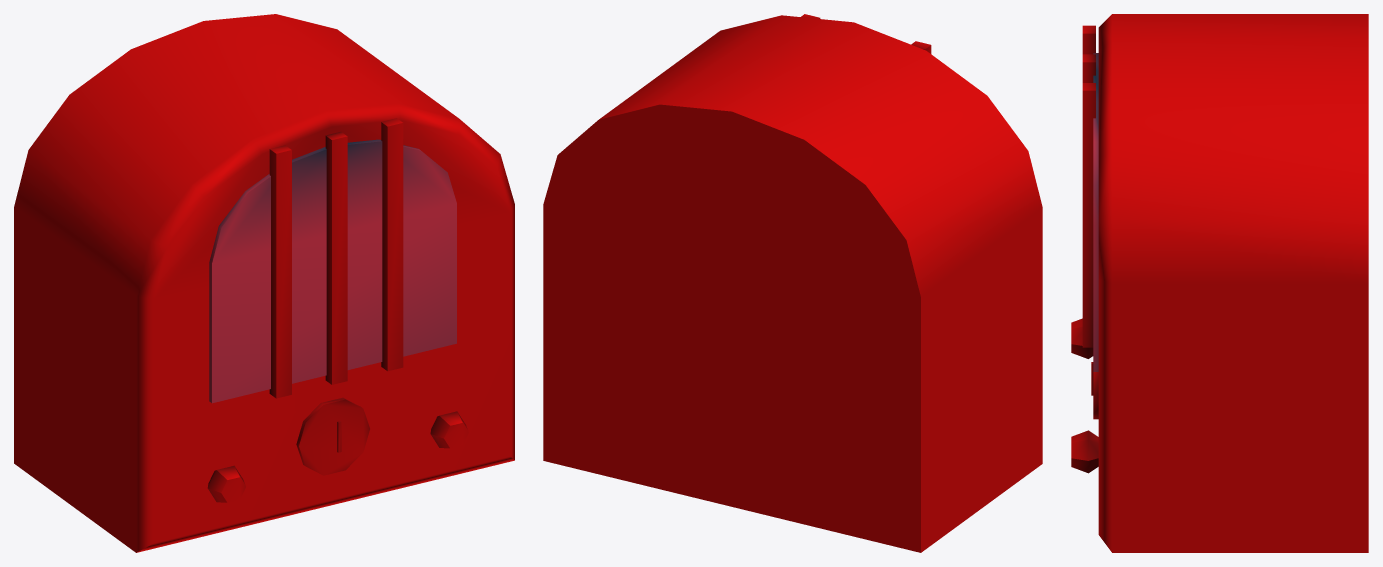
Rendered from CI_Living_ValveRadio.glb.
The picture shows the model from 3 angles, left to right: view 1: azimuth 30°, elevation 25°; view 2: azimuth 150°, elevation 25°; view 3: azimuth 270°, elevation 25°; orthographic projection. The views are drawn at different scales.
Parts seen in each view (by area): view 1: CI_Living_ValveRadio; view 2: CI_Living_ValveRadio; view 3: CI_Living_ValveRadio.
Part boxes in pixels (x1=…): CI_Living_ValveRadio: x1=14, y1=14, x2=514, y2=552; CI_Living_ValveRadio: x1=543, y1=14, x2=1042, y2=552; CI_Living_ValveRadio: x1=1071, y1=14, x2=1368, y2=552.
Bounding box in the file's own units: 0.34 × 0.34 × 0.2204.
